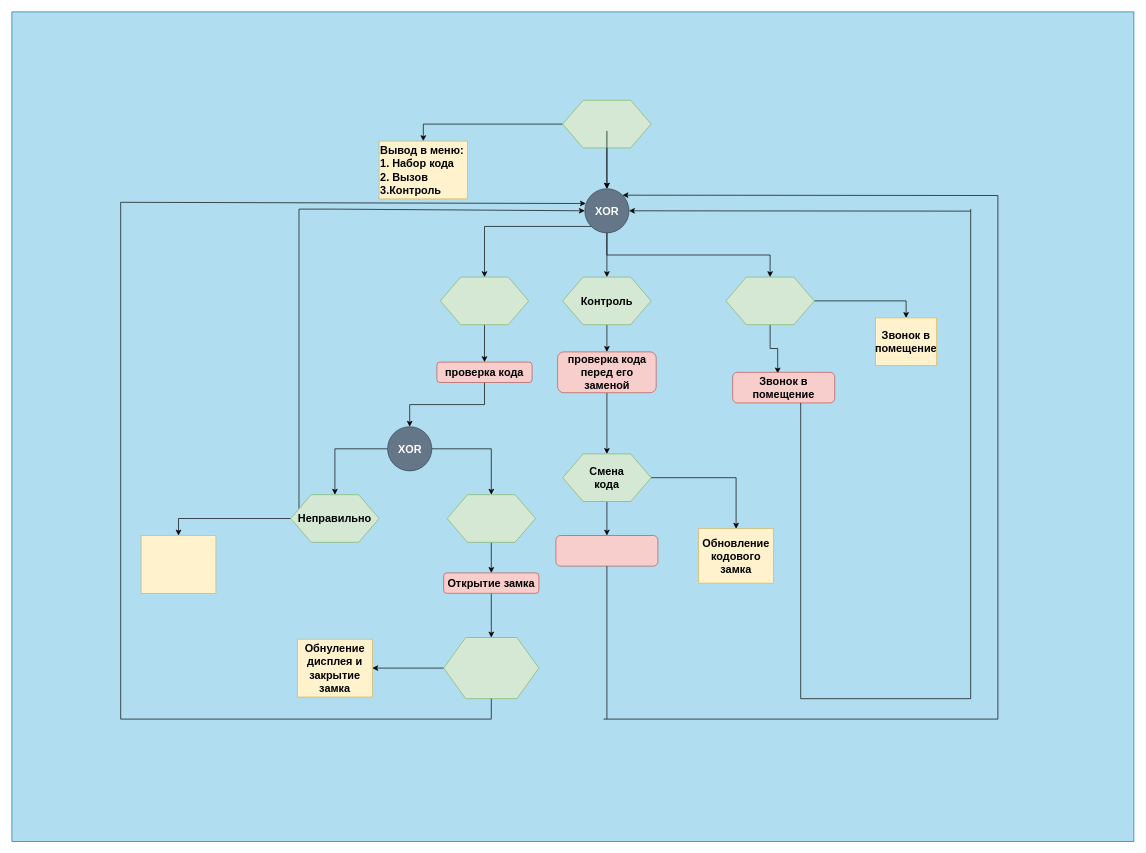
Some shapes in this 1146 by 853 pixel diagram are drawn without their labels. Each missing label, with the centre of its shape:
Был введен неверный код: (x=178, y=564)
Вызов: (x=769, y=300)
Запуск программы: (x=606, y=124)
Набор кода: (x=484, y=300)
Очищение и закрытие замка: (x=491, y=668)
Правильно: (x=491, y=518)
Установка нового кода: (x=606, y=550)
